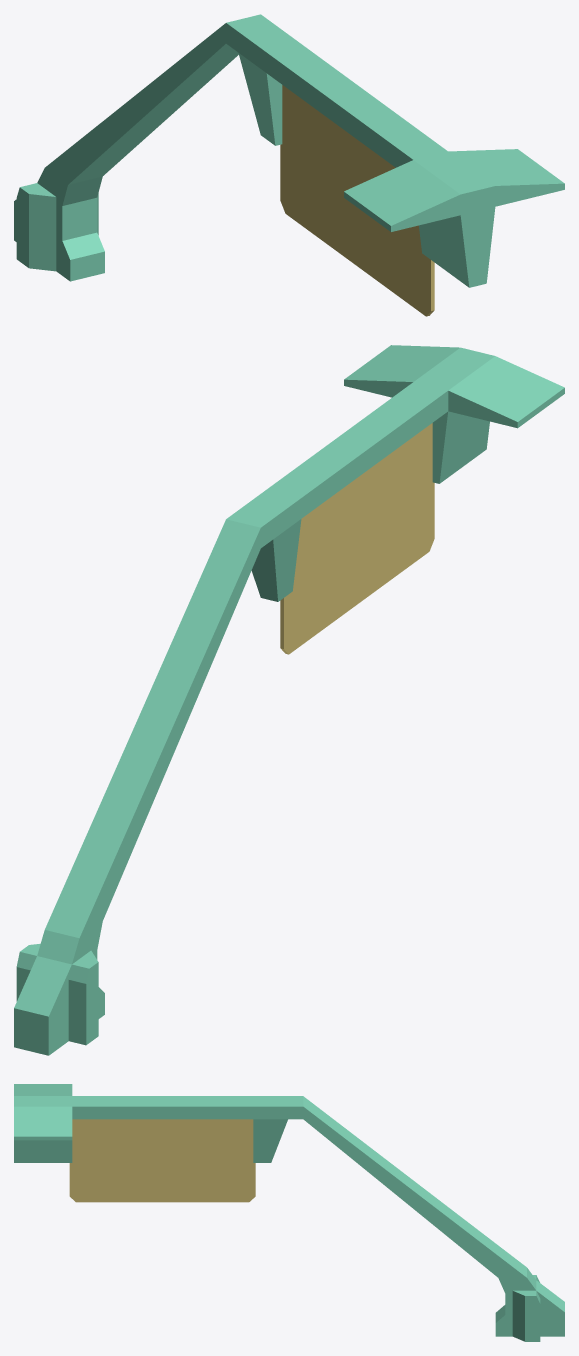
Rendered from sign_street_arch.fbx.
3 renders of one model, top to bottom at view 1: azimuth 30°, elevation 25°; view 2: azimuth 150°, elevation 25°; view 3: azimuth 270°, elevation 25°, orthographic. The views are drawn at different scales.
Visible parts, largest first — view 1: L6 default default; view 2: L6 default default; view 3: L6 default default.
Boxes of the visible parts, left/top/right/bottom form: L6 default default: left=14, top=14, right=564, bottom=316; L6 default default: left=14, top=345, right=564, bottom=1055; L6 default default: left=14, top=1084, right=564, bottom=1341.
Size of the model in its own units: 10000 by 20486 by 44478.
